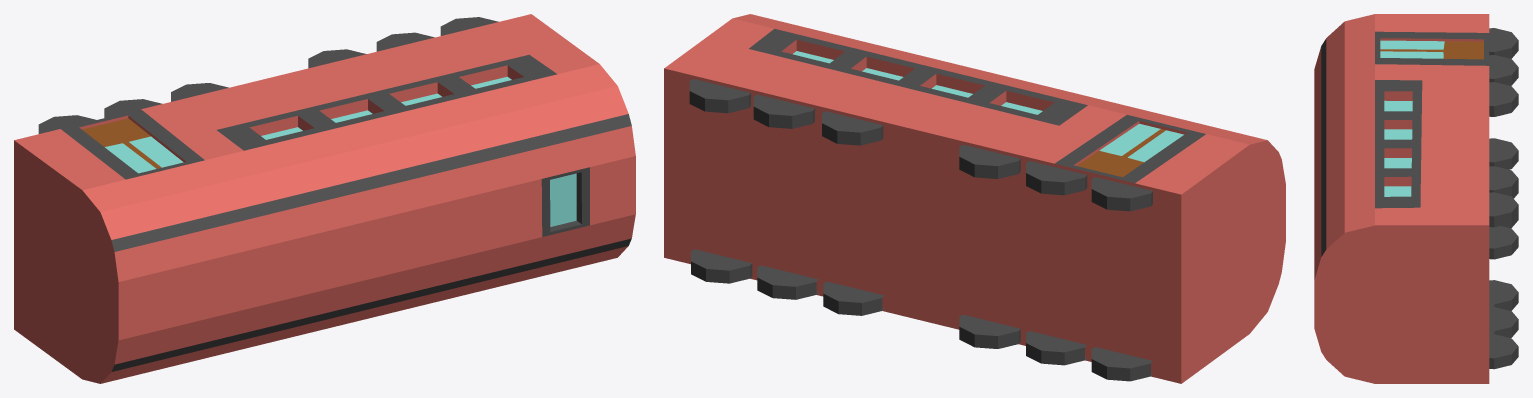
File: devrilmis_tren.fbx
3 renders of one model, left to right at view 1: azimuth 30°, elevation 25°; view 2: azimuth 150°, elevation 25°; view 3: azimuth 270°, elevation 25°, orthographic. The views are drawn at different scales.
Visible parts, largest first — view 1: Cube; view 2: Cube; view 3: Cube.
Part boxes in pixels (x1,y1,x2,y2): Cube: [14, 14, 635, 383]; Cube: [664, 14, 1285, 383]; Cube: [1314, 14, 1518, 383].
Size of the model in its own units: 572 by 200 by 233.
